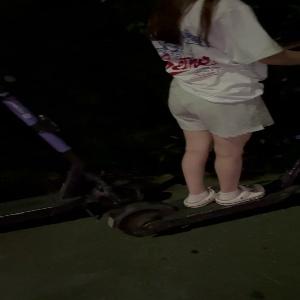human on a scooter: (103, 1, 300, 243)
